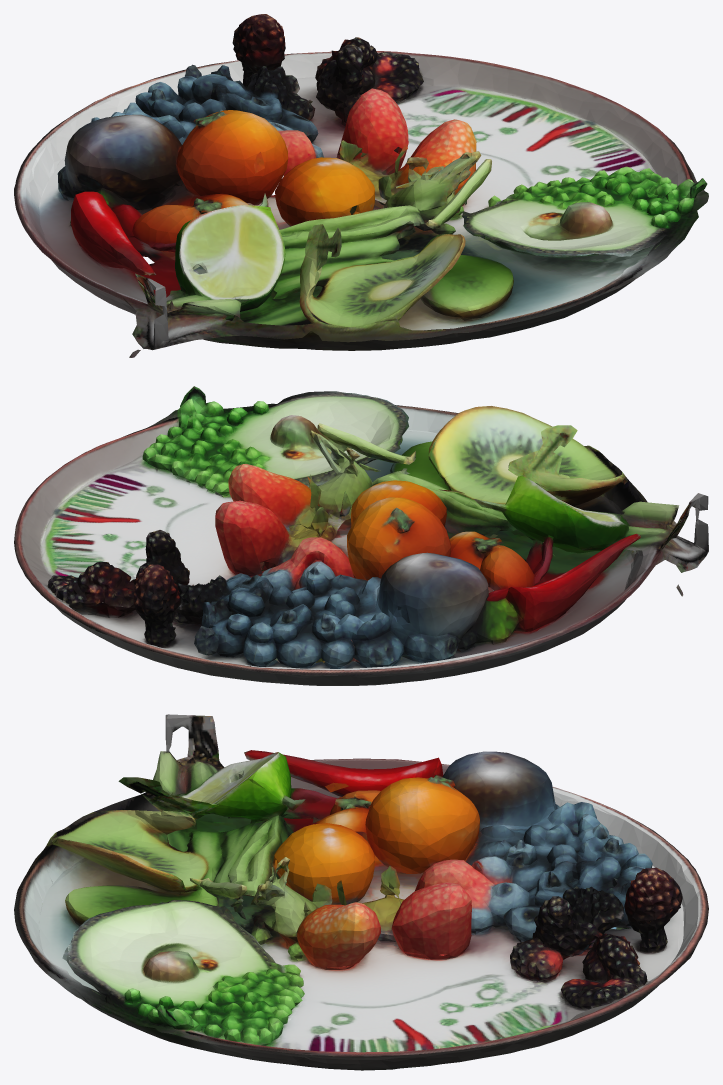
Rendered from HealthyFood.glb.
3 renders of one model, top to bottom at view 1: azimuth 30°, elevation 25°; view 2: azimuth 150°, elevation 25°; view 3: azimuth 270°, elevation 25°, orthographic. The views are drawn at different scales.
Parts seen in each view (by area): view 1: world; view 2: world; view 3: world.
Boxes of the visible parts, x1=… form: world: x1=14, y1=14, x2=708, y2=357; world: x1=14, y1=386, x2=708, y2=685; world: x1=14, y1=714, x2=708, y2=1070.
Bounding box in the file's own units: 1 × 0.1961 × 0.9981.
1 material, 1 textured.
